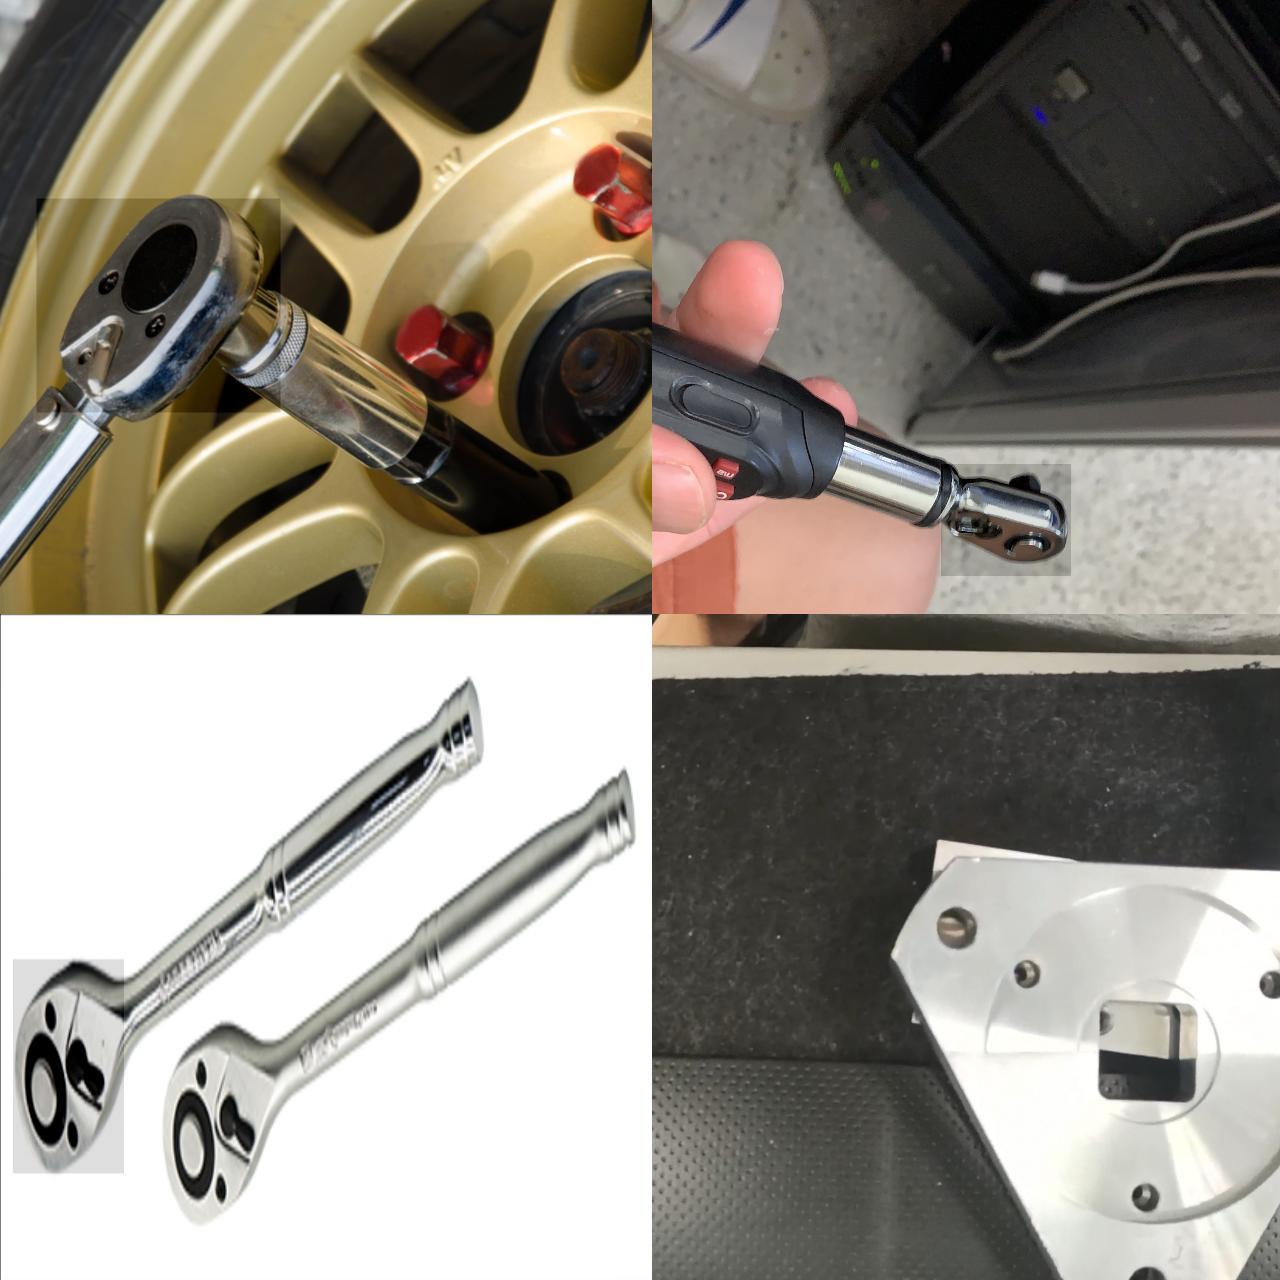Tool: (36, 198, 280, 412), (158, 1012, 275, 1219), (12, 958, 123, 1173), (940, 463, 1070, 575)
hole: (540, 2, 660, 112), (556, 124, 655, 238), (931, 894, 990, 951), (1130, 1176, 1173, 1216), (1122, 1254, 1186, 1277), (1011, 953, 1049, 990), (1254, 959, 1278, 1002)
